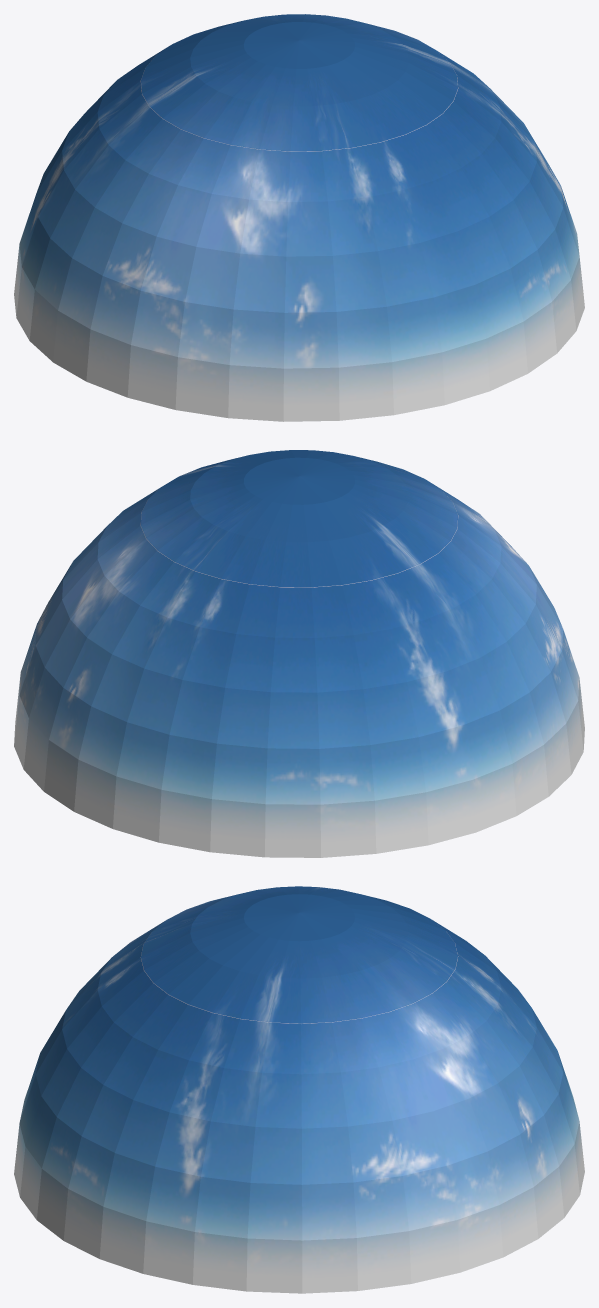
Rendered from indianapolis_sky.glb.
3 renders of one model, top to bottom at view 1: azimuth 30°, elevation 25°; view 2: azimuth 150°, elevation 25°; view 3: azimuth 270°, elevation 25°, orthographic.
Bounding box in the file's own units: 2200 × 1107 × 2200.
2 materials, 2 textured.
